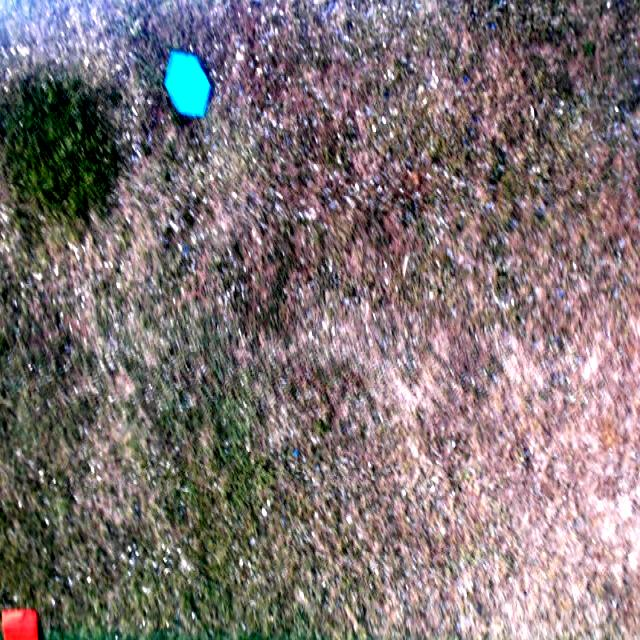blue_hexagon: (164, 52, 212, 119)
